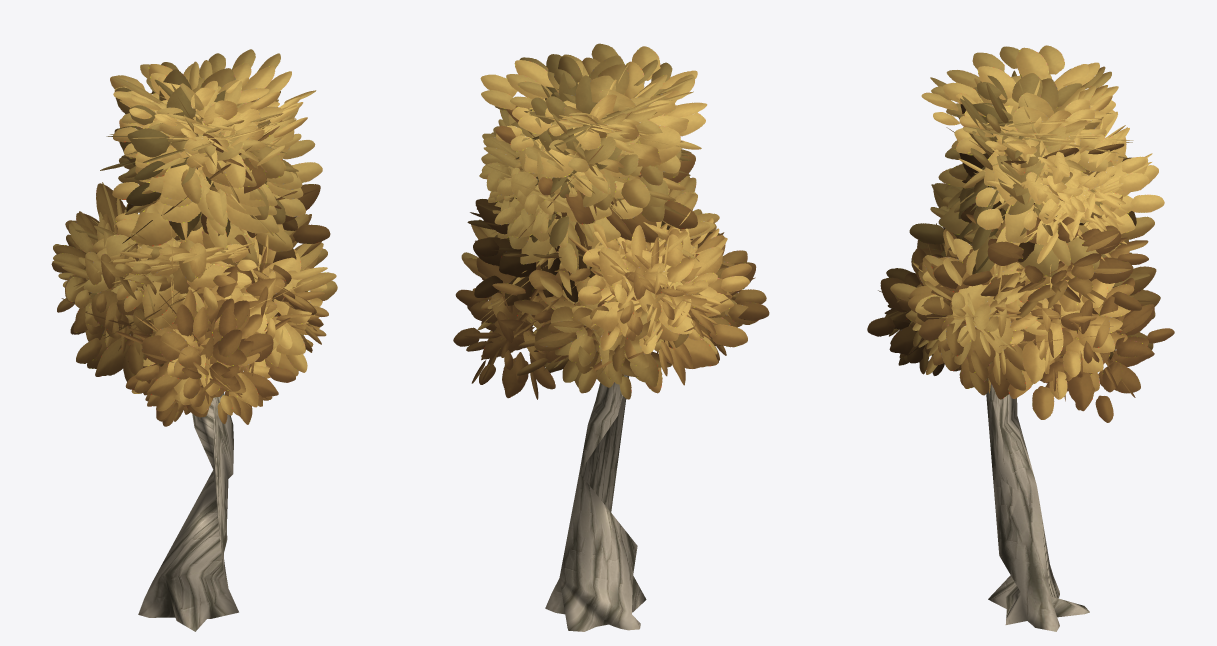
Rendered from tree_beech_autumn_far.glb.
3 renders of one model, left to right at view 1: azimuth 30°, elevation 25°; view 2: azimuth 150°, elevation 25°; view 3: azimuth 270°, elevation 25°, orthographic.
Visible parts, largest first — view 1: Canopy, tree_beech_autumn_far; view 2: Canopy, tree_beech_autumn_far; view 3: Canopy, tree_beech_autumn_far.
Boxes of the visible parts, box(x1,y1,x2,y2) form: Canopy: box(51, 49, 337, 426); tree_beech_autumn_far: box(138, 393, 238, 631); Canopy: box(453, 43, 769, 399); tree_beech_autumn_far: box(545, 375, 646, 631); Canopy: box(867, 45, 1174, 422); tree_beech_autumn_far: box(986, 378, 1089, 631).
Size of the model in its own units: 1.48 by 2.3 by 1.42.
Materials: 2 (2 with a texture image).
